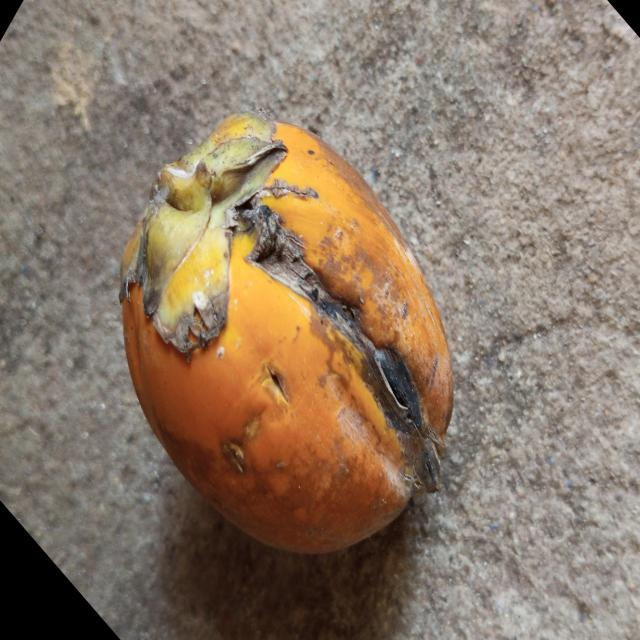damaged: (119, 116, 454, 557)
